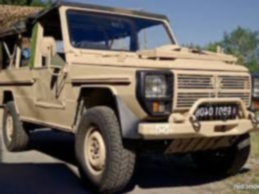license_plate: (195, 105, 239, 119)
